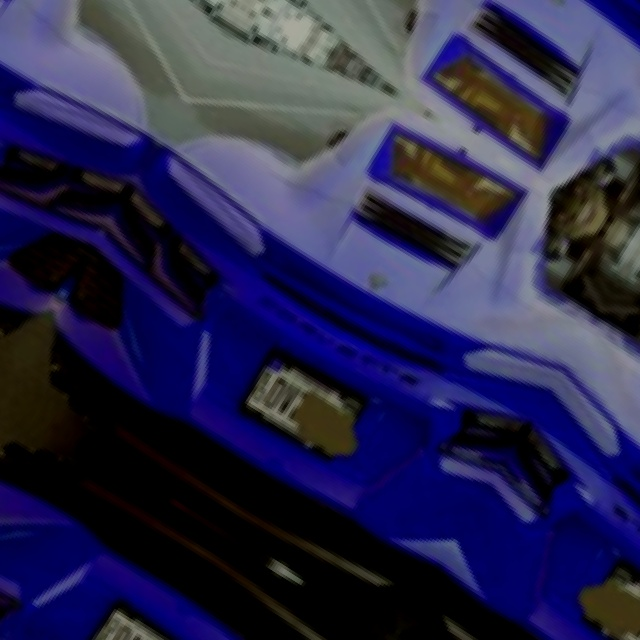ISA: (249, 368, 277, 402), (92, 617, 120, 640)
